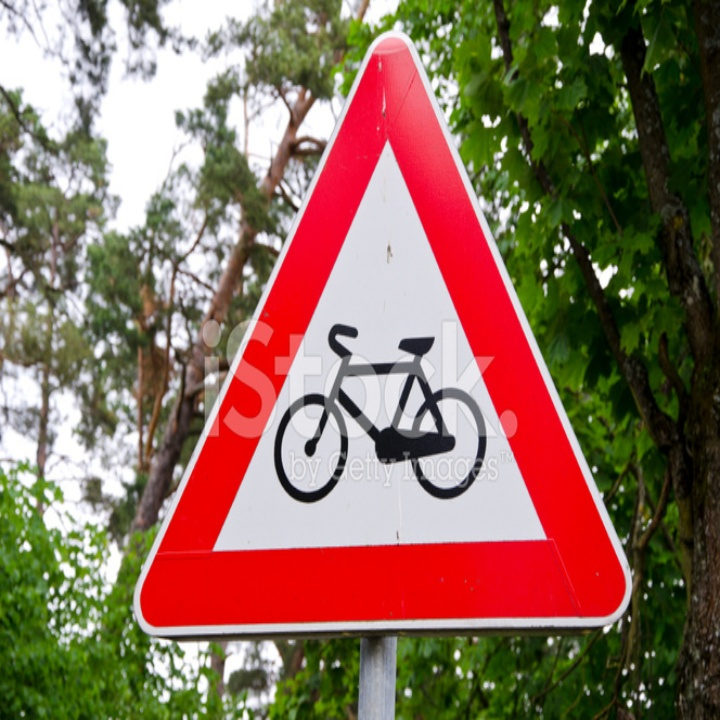bicycle: (274, 322, 488, 501)
